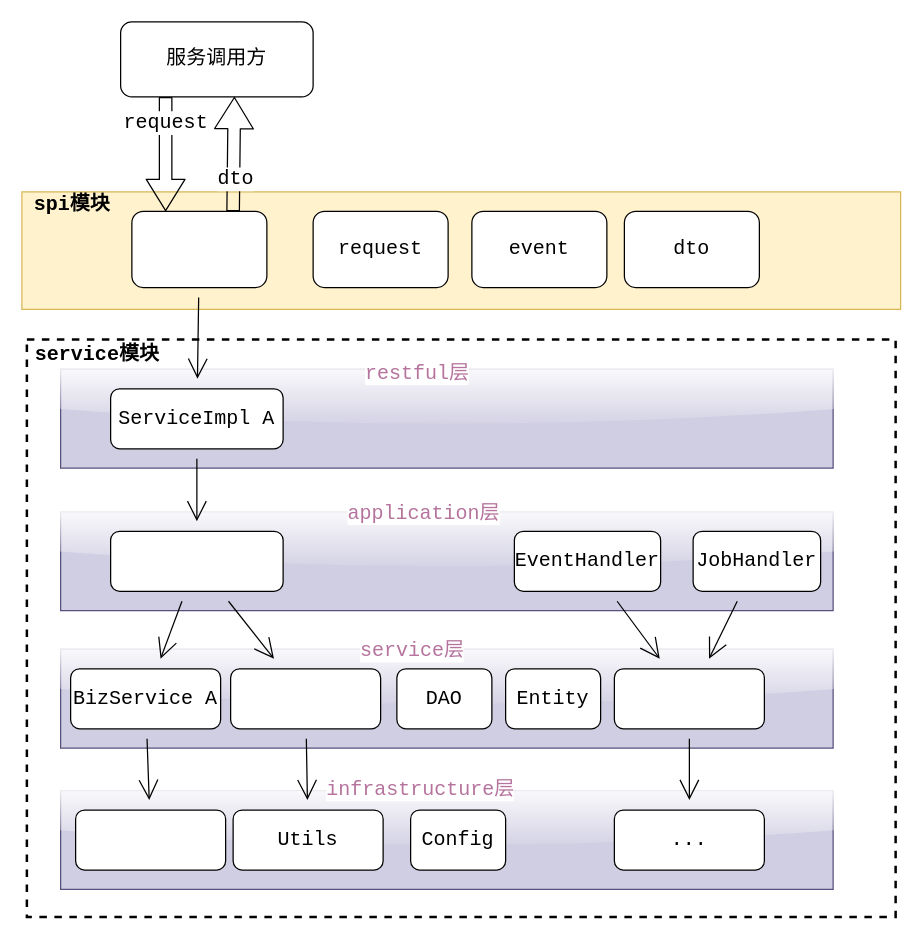
This 923x940 diagram has some shape labels left out. Here are the shapes that lost their labels. From the top down, the box of each, then its label:
(131, 210, 267, 288): api
(109, 530, 283, 591): AppService A
(229, 668, 381, 729): BizService B
(613, 668, 764, 729): BizService C
(74, 809, 226, 870): FeignClient
